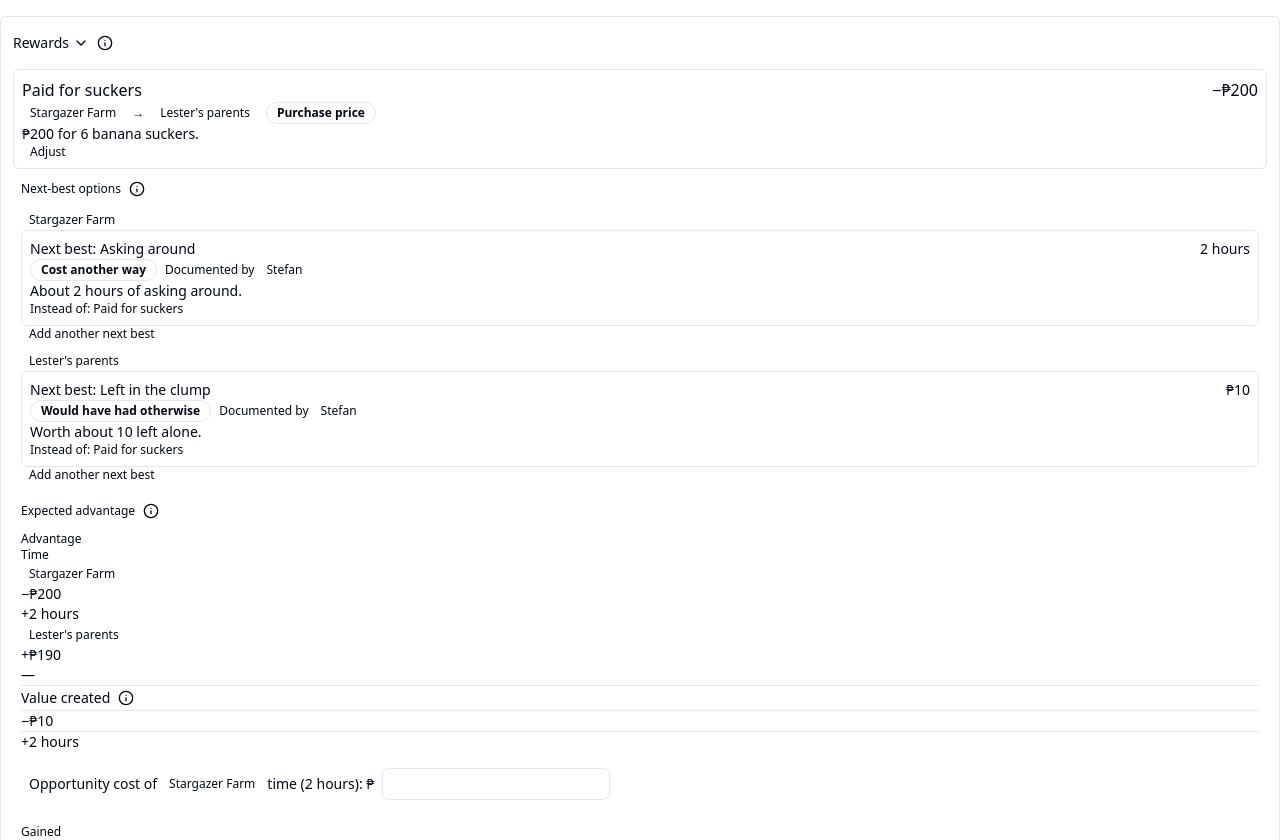
Test: RewardsSection › starts an adjustment from the claim's current amount
The width and height of the screenshot is (1280, 840).
Step 1. Click the button "Adjust" → (48, 152), box top-left (22, 144), bottom-right (74, 160)
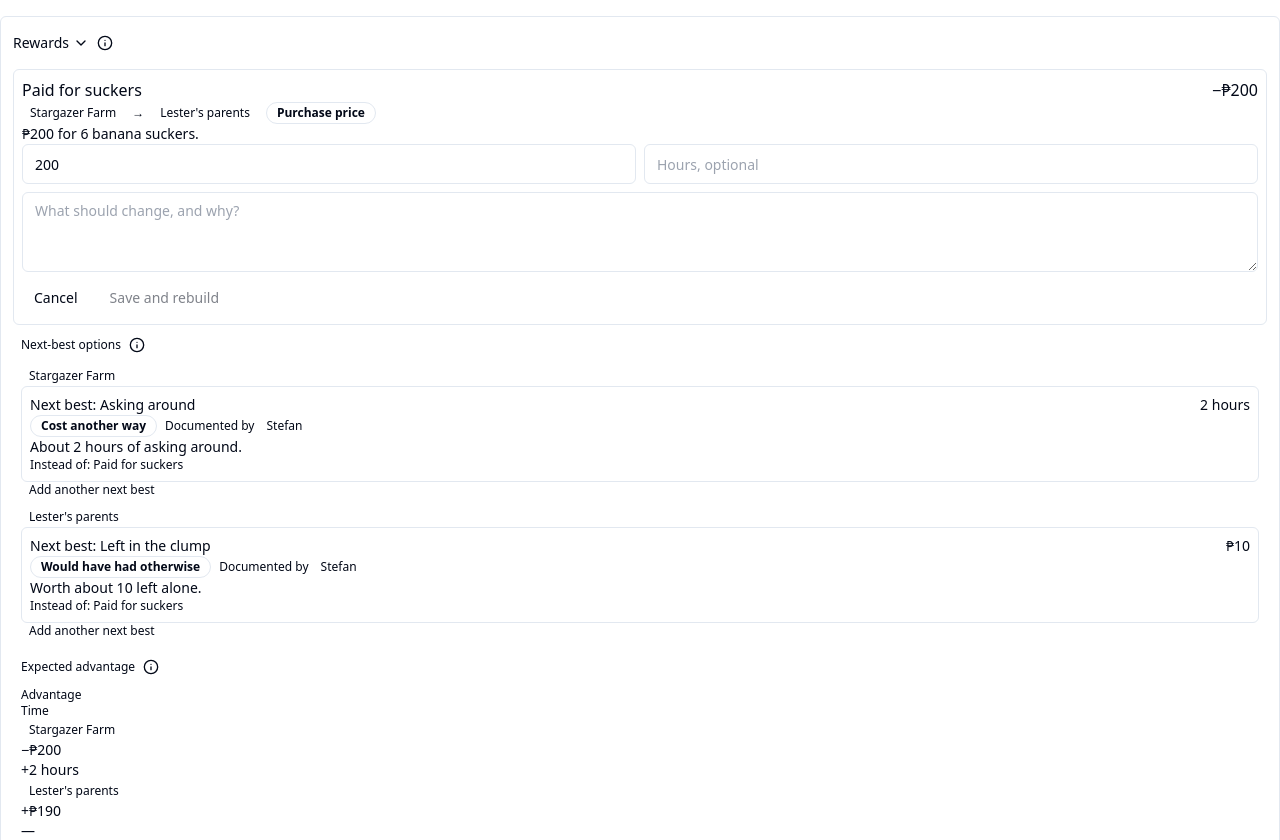
Now the number field with placeholder "₱, optional" holds "200", box top-left (22, 144), bottom-right (636, 184)
Now the number field with placeholder "Hours, optional" is not empty, box top-left (644, 144), bottom-right (1258, 184)
Now the button "Save and rebuild" is disabled, box top-left (98, 280), bottom-right (231, 316)
